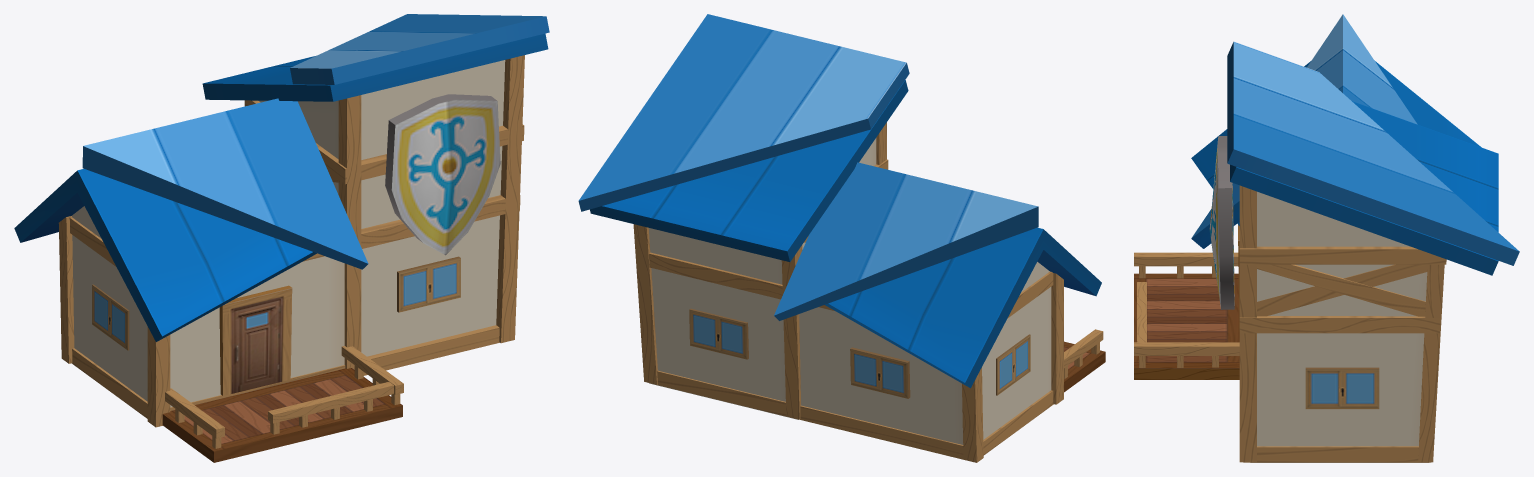
The model's file is building_Armor_lv3.FBX.
3 views of the same model, side by side, from view 1: azimuth 30°, elevation 25°; view 2: azimuth 150°, elevation 25°; view 3: azimuth 270°, elevation 25° (orthographic). The views are drawn at different scales.
Visible parts, largest first — view 1: building_Armor_main_lv3, building_Armor_lv3; view 2: building_Armor_main_lv3, building_Armor_lv3; view 3: building_Armor_main_lv3, building_Armor_lv3.
Boxes of the visible parts, box(x1,y1,x2,y2) form: building_Armor_main_lv3: box(14, 14, 549, 407); building_Armor_lv3: box(58, 55, 524, 462); building_Armor_main_lv3: box(578, 14, 1101, 444); building_Armor_lv3: box(633, 122, 1105, 462); building_Armor_main_lv3: box(1191, 14, 1519, 462); building_Armor_lv3: box(1134, 136, 1446, 462).
Bounding box in the file's own units: 577 × 426 × 451.
